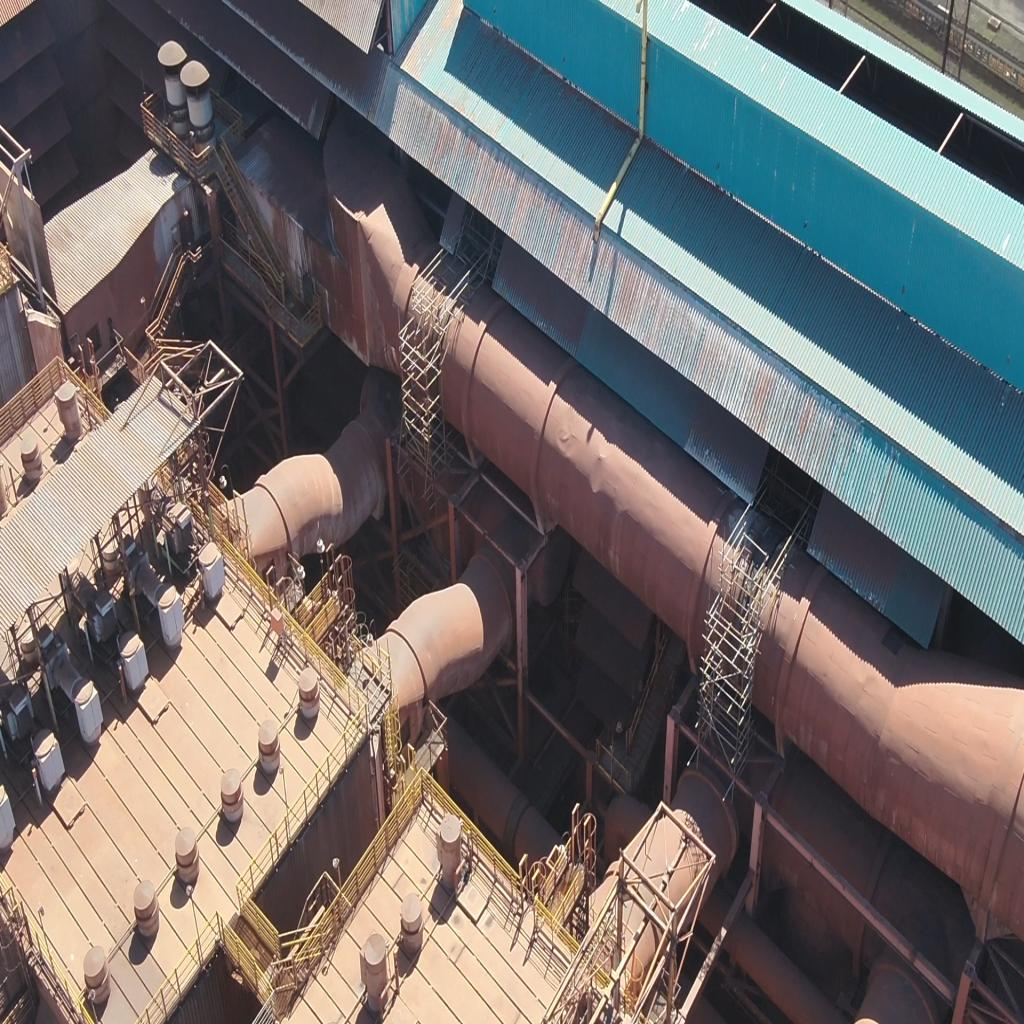Failures: (885, 630, 903, 657)
